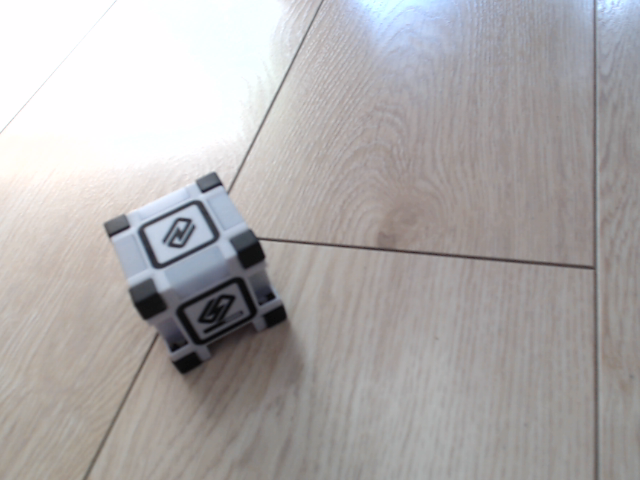block: (103, 168, 290, 377)
